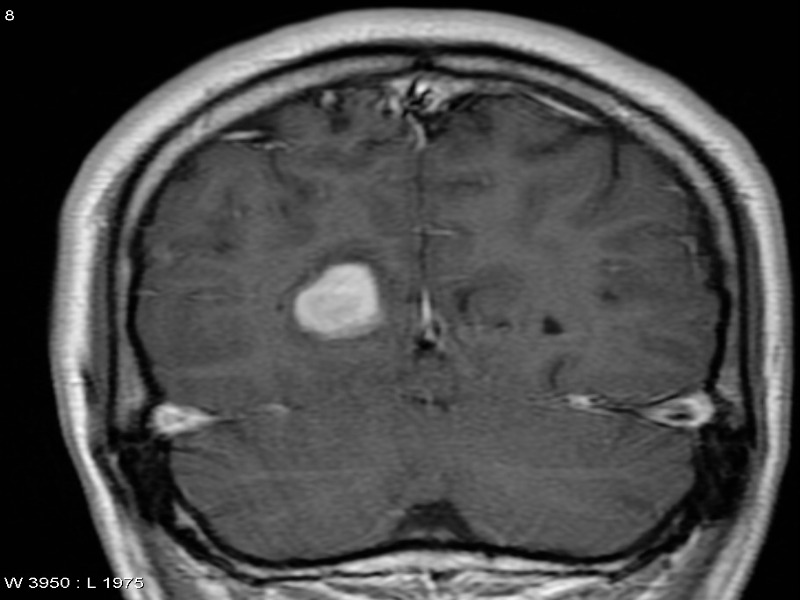tumor: (285, 253, 395, 354)
